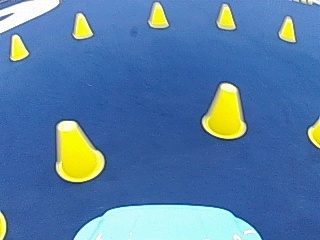cone: (53, 119, 102, 182), (202, 81, 246, 139), (71, 12, 93, 38), (8, 33, 29, 60), (147, 1, 168, 28), (215, 3, 236, 29), (277, 15, 296, 41), (307, 116, 319, 147)
